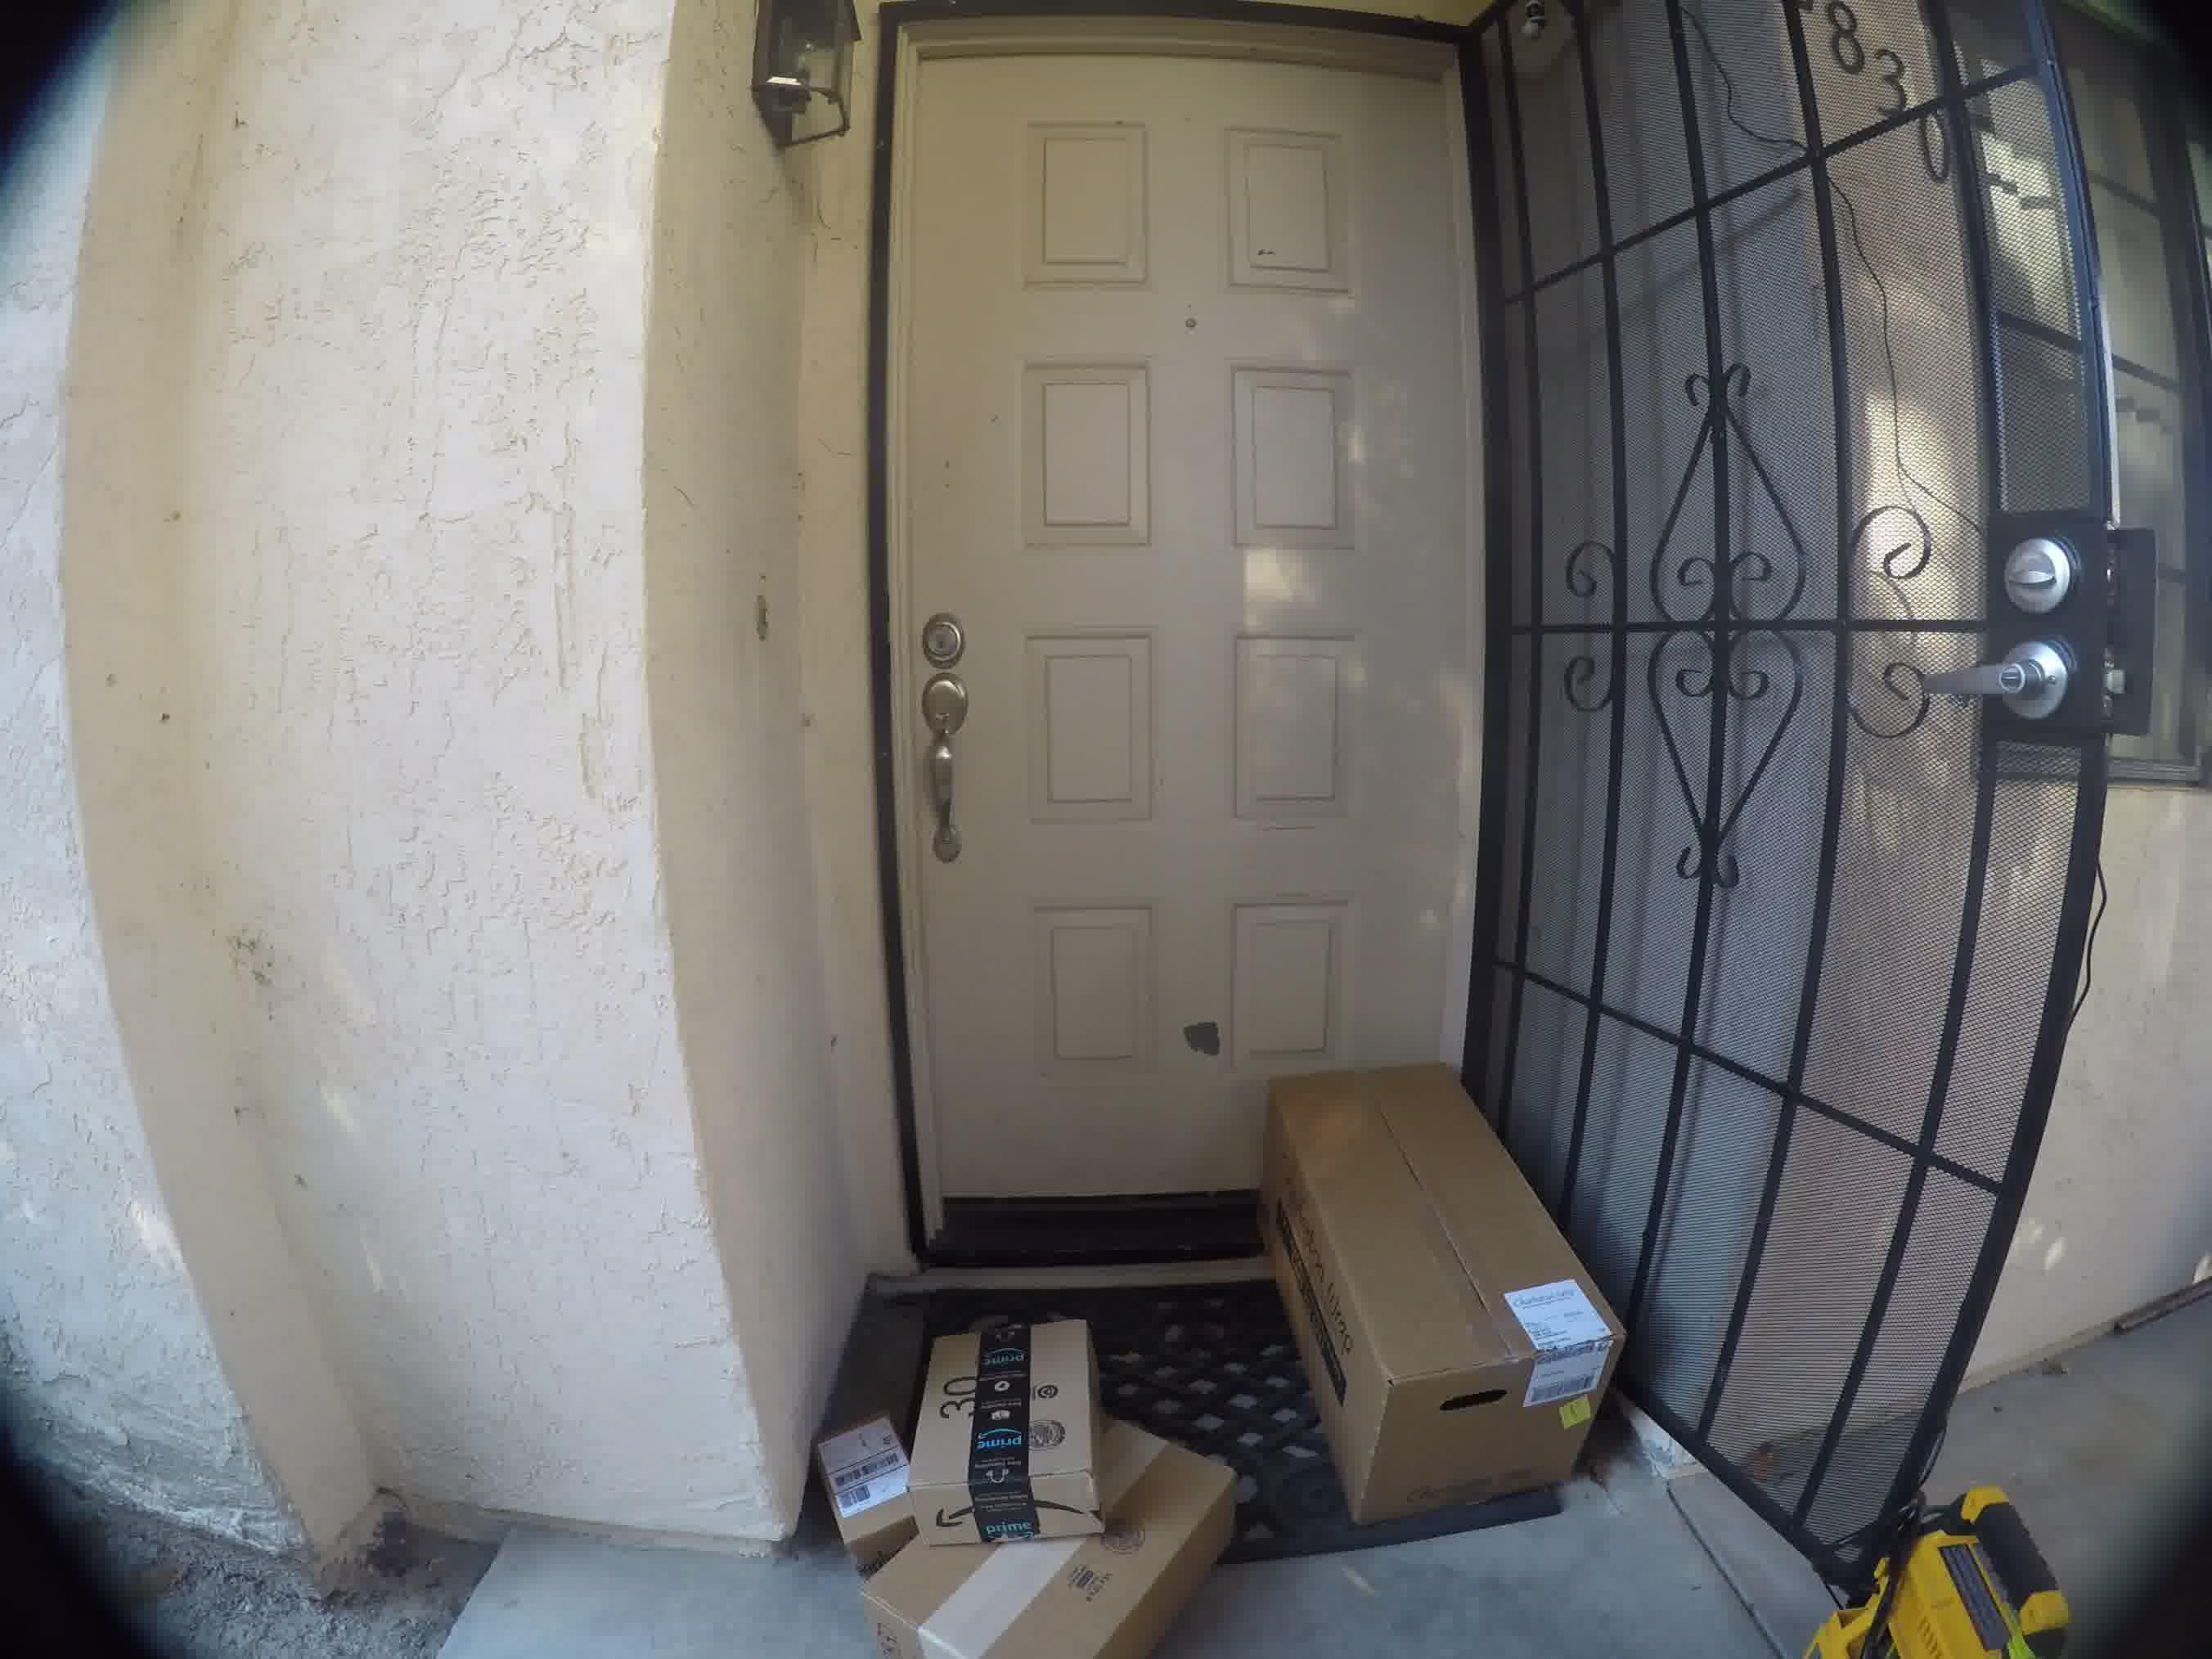box: (1237, 1039, 1651, 1516), (914, 1305, 1122, 1532), (859, 1535, 1207, 1652), (794, 1403, 918, 1539)
